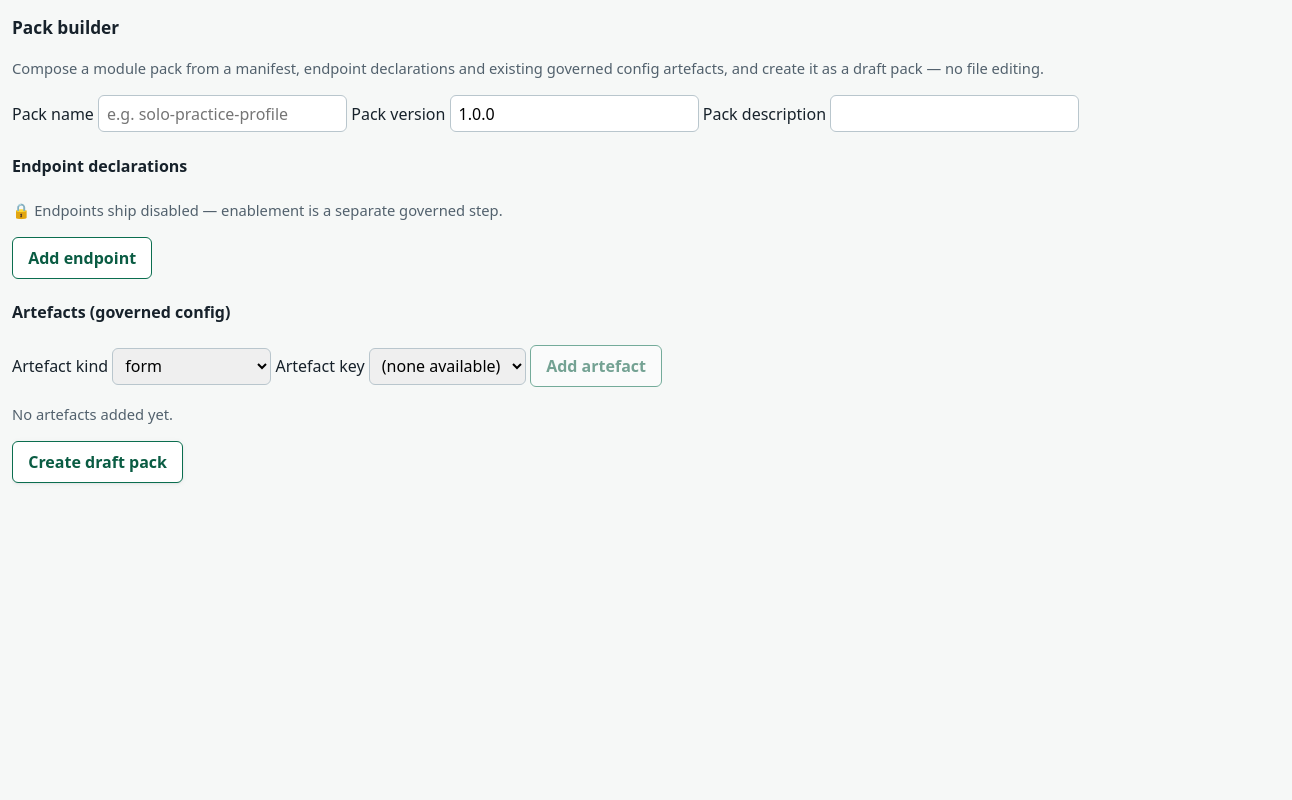
it: PackBuilder › submits a manifest whose api_endpoints all carry enabled:false
Type "solo-profile" into the field labelled "Pack name" at coordinates (223, 114), box 98,95 -> 347,132
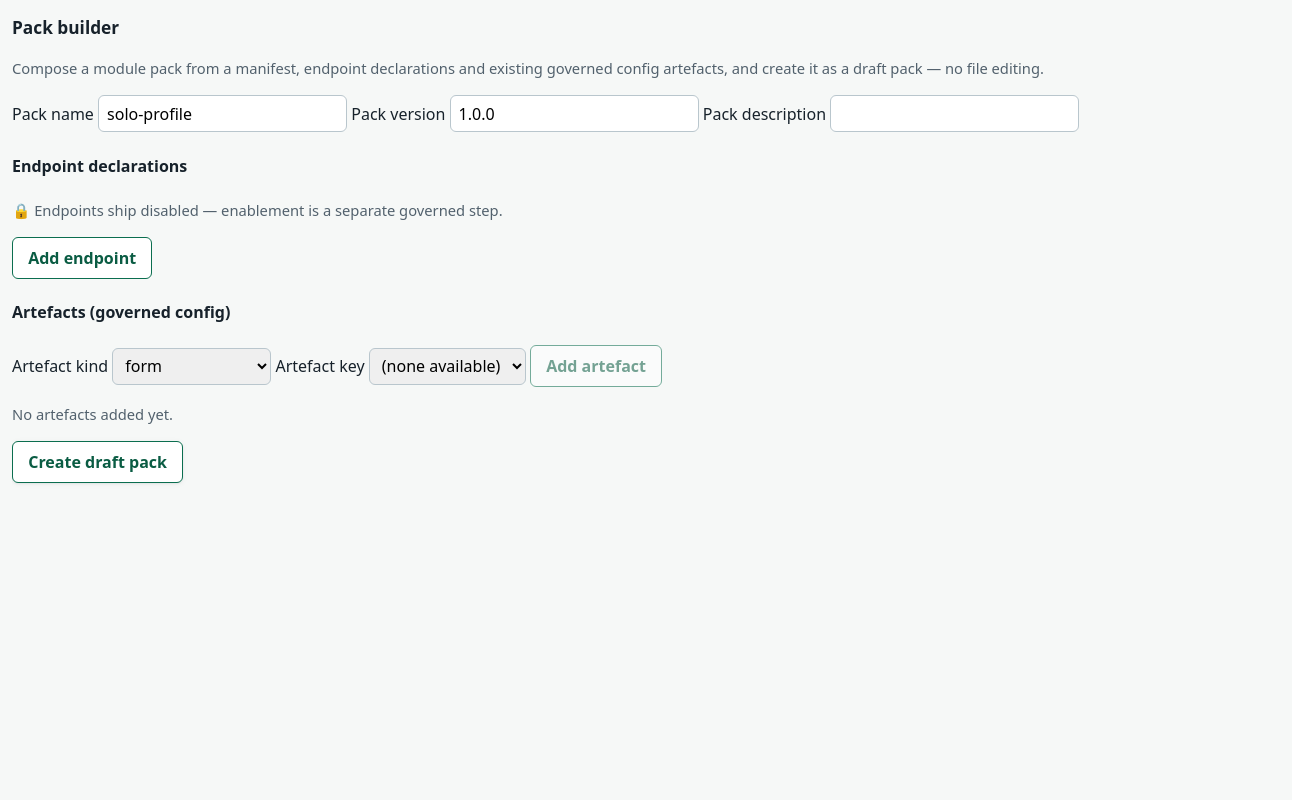
Type "Solo practice profile" into the field labelled "Pack description" at coordinates (955, 114), box 830,95 -> 1079,132
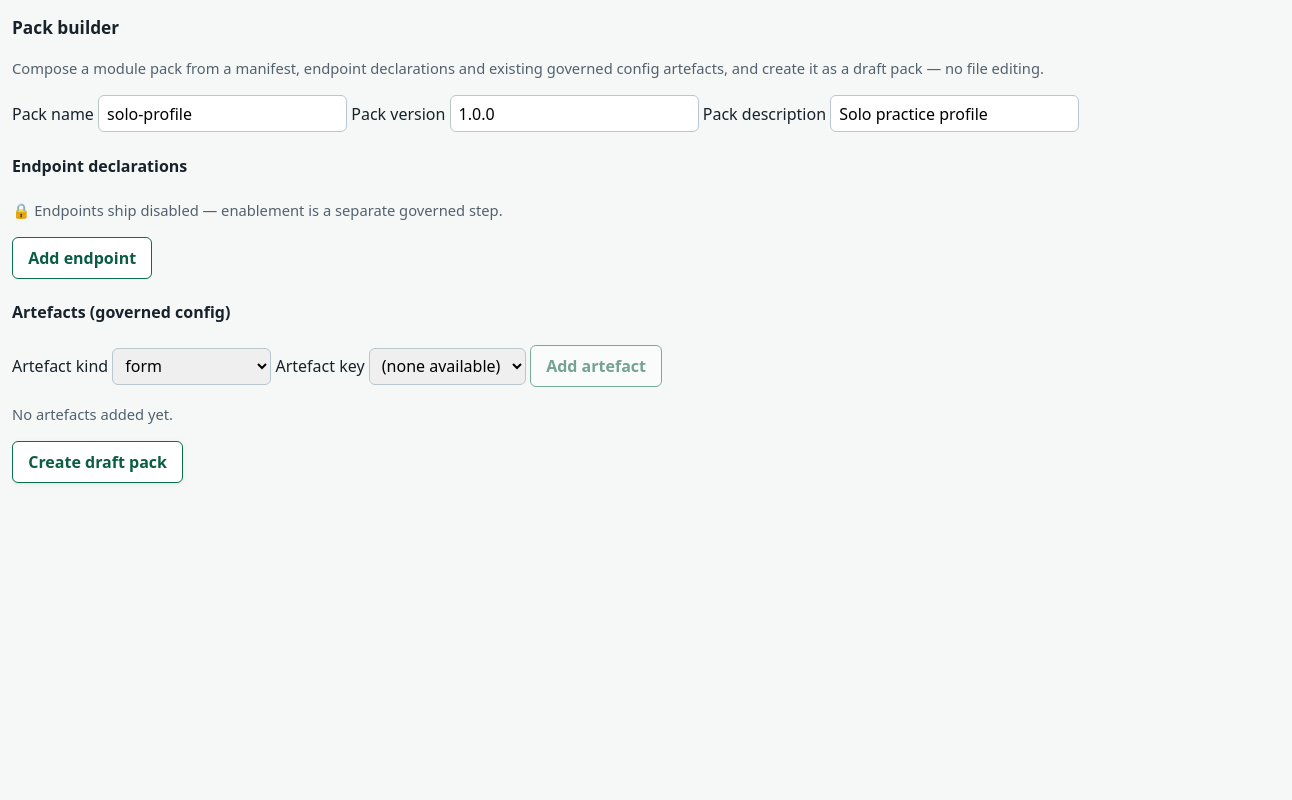
Click the button "Add endpoint" at coordinates (82, 258), box 12,237 -> 152,279
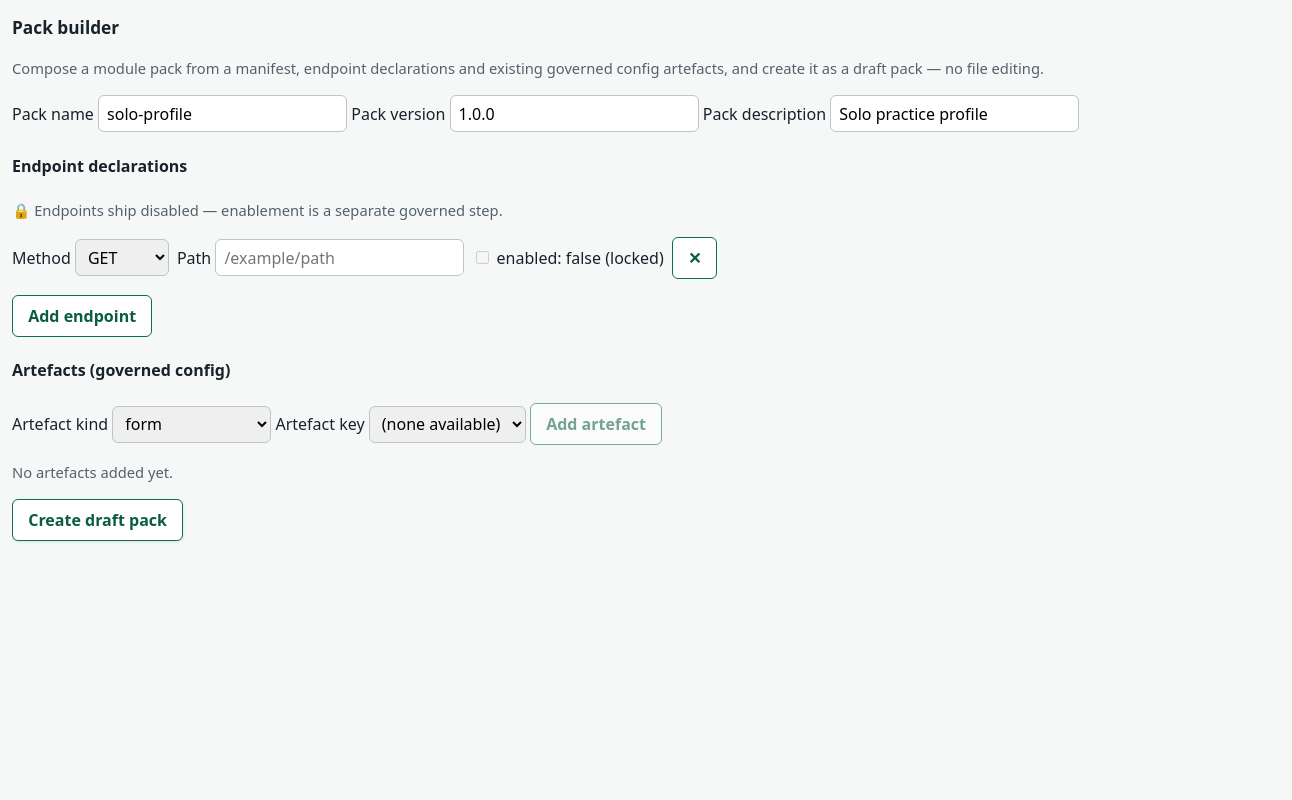
Type "/solo/summary" into the field named "Endpoint 1 path" at coordinates (340, 258), box 215,239 -> 464,276
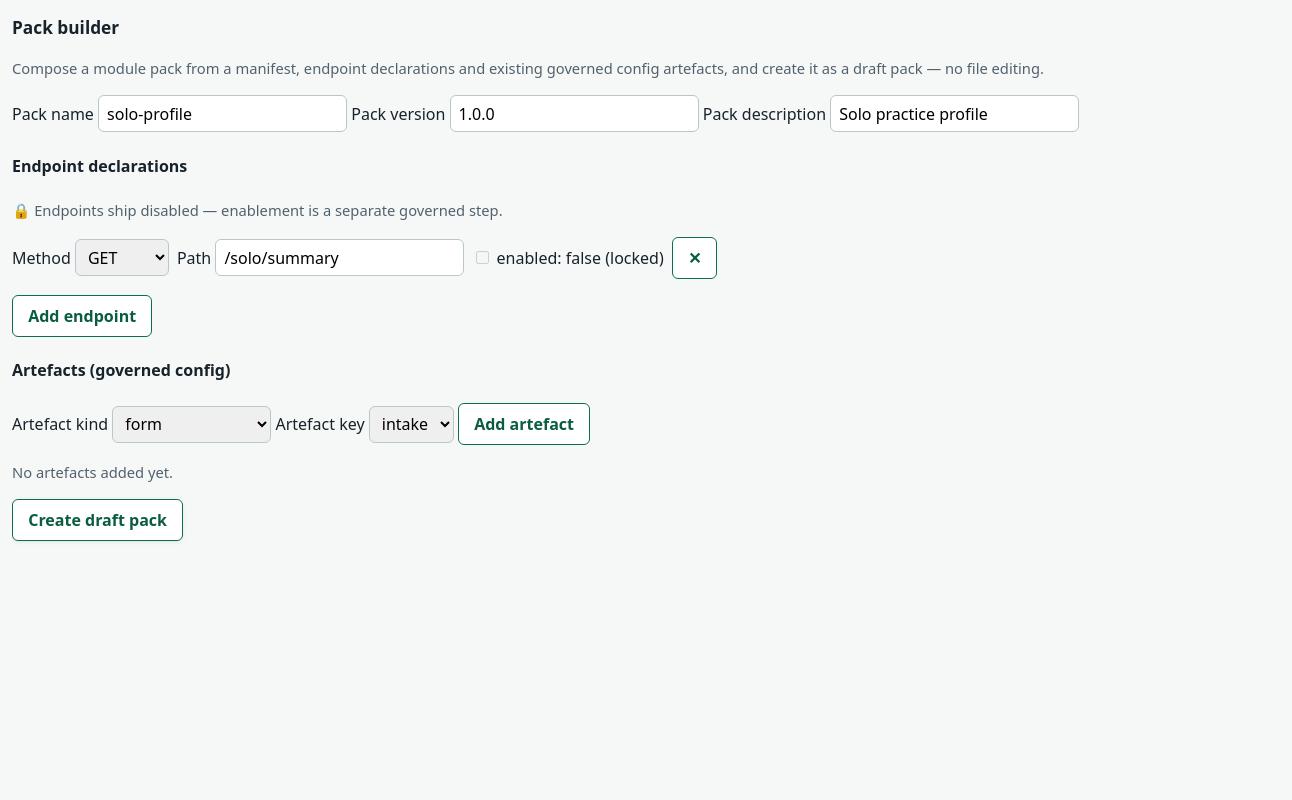
Expected: the dropdown labelled "Artefact key" shows "intake", 369,406 -> 454,443
Click the button "Add artefact" at coordinates (524, 424), box 458,403 -> 590,445
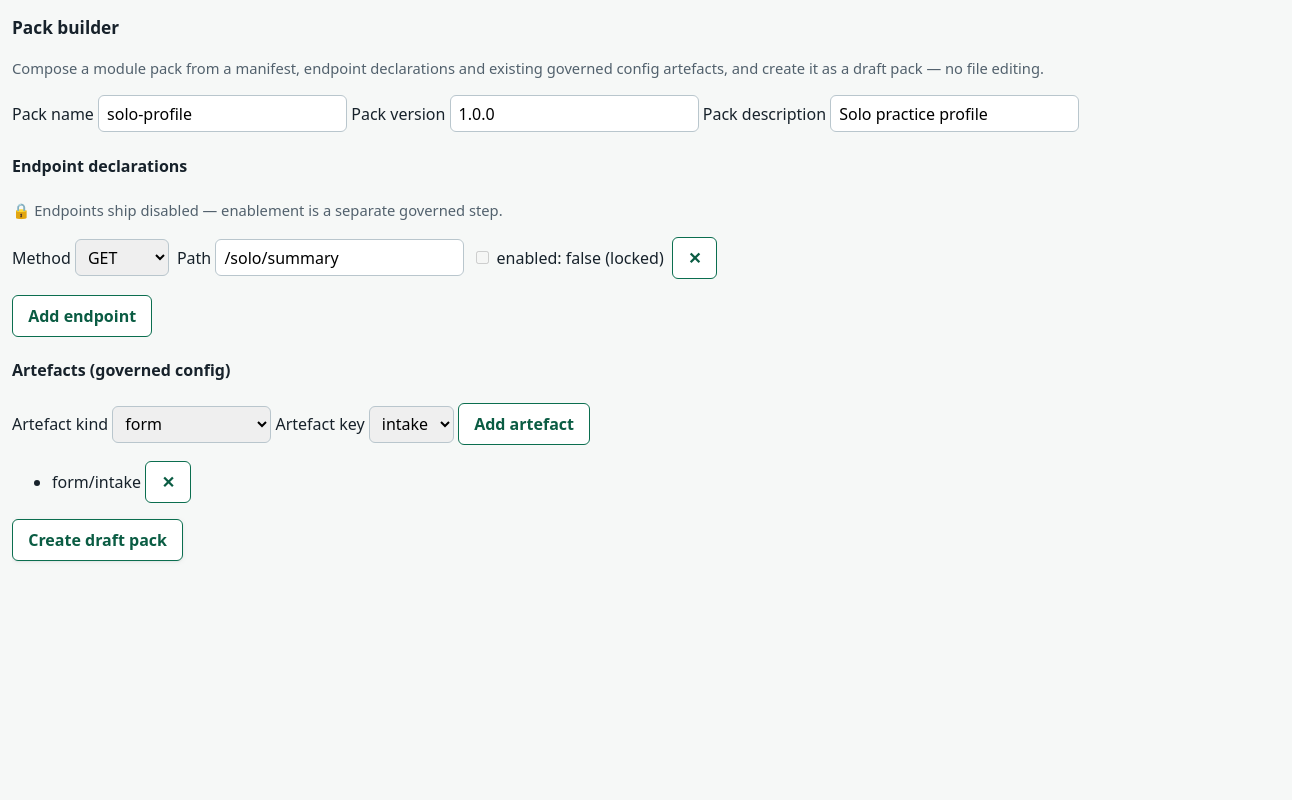
Expected: the list item "form/intake" is shown, 52,461 -> 191,503
Click the button "Create draft pack" at coordinates (98, 540), box 12,519 -> 183,561
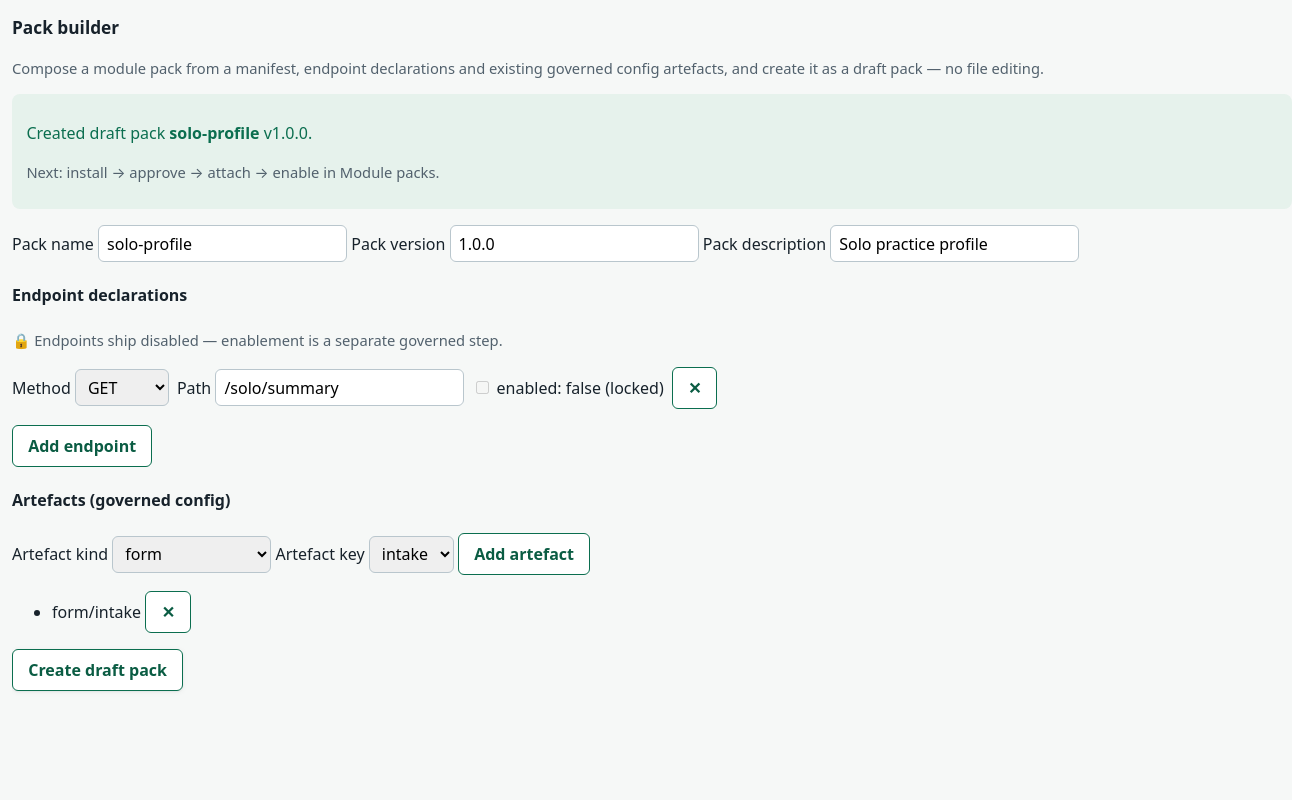
Expected: the text "solo-profile" is shown, 169,122 -> 260,144
Expected: the text "Next: install → approve → attach → enable in Module packs." is shown, 26,162 -> 439,182
